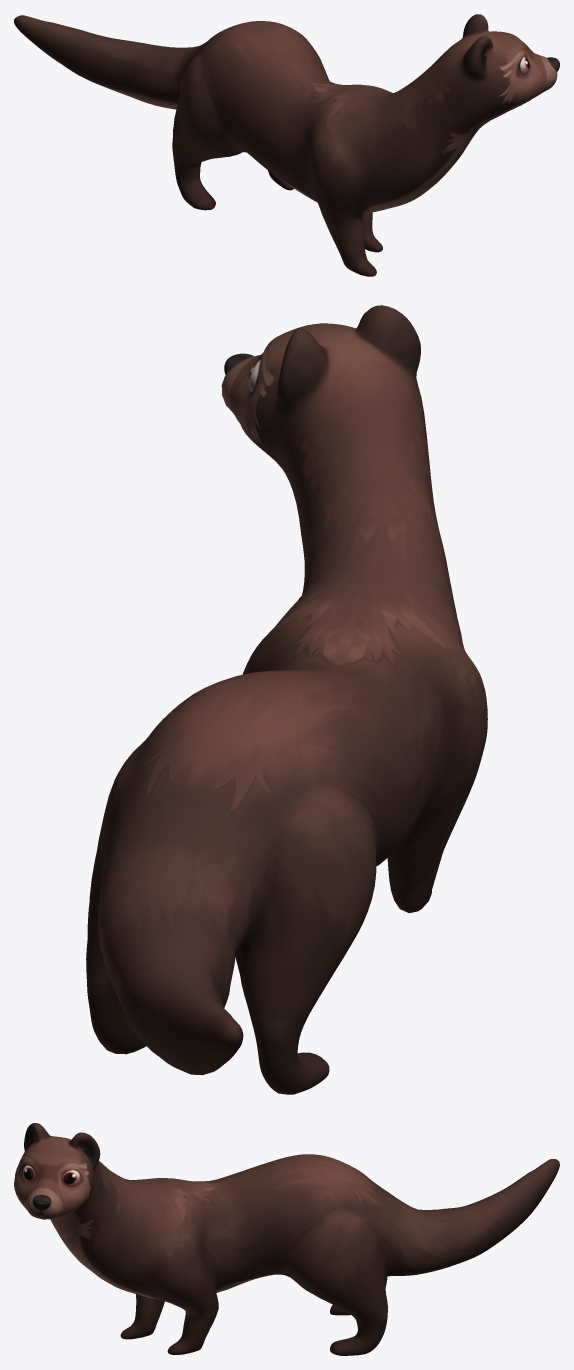
The picture shows the model from 3 angles, top to bottom: view 1: azimuth 30°, elevation 25°; view 2: azimuth 150°, elevation 25°; view 3: azimuth 270°, elevation 25°; orthographic projection. The views are drawn at different scales.
Parts seen in each view (by area): view 1: norm; view 2: norm; view 3: norm.
Boxes of the visible parts, box(x1,y1,x2,y2) form: norm: box(14, 14, 559, 276); norm: box(86, 305, 487, 1094); norm: box(14, 1123, 559, 1355).
Bounding box in the file's own units: 2524 × 2262 × 4543.
Materials: 1 (1 with a texture image).
